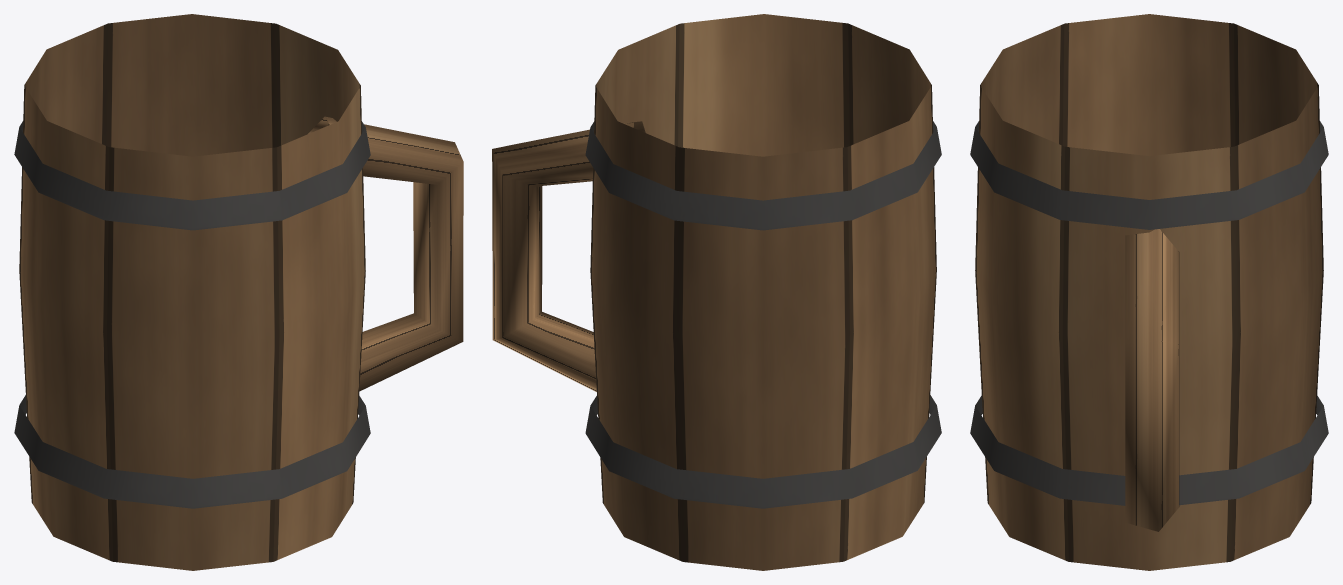
The model's file is Mug.gltf.
3 views of the same model, side by side, from view 1: azimuth 30°, elevation 25°; view 2: azimuth 150°, elevation 25°; view 3: azimuth 270°, elevation 25° (orthographic).
Visible parts, largest first — view 1: Mug; view 2: Mug; view 3: Mug.
Part boxes in pixels (<box>): Mug: <box>14,14,463,570</box>; Mug: <box>492,14,941,570</box>; Mug: <box>970,14,1328,570</box>.
Size of the model in its own units: 0.19 by 0.18 by 0.14.
2 materials, 2 textured.
